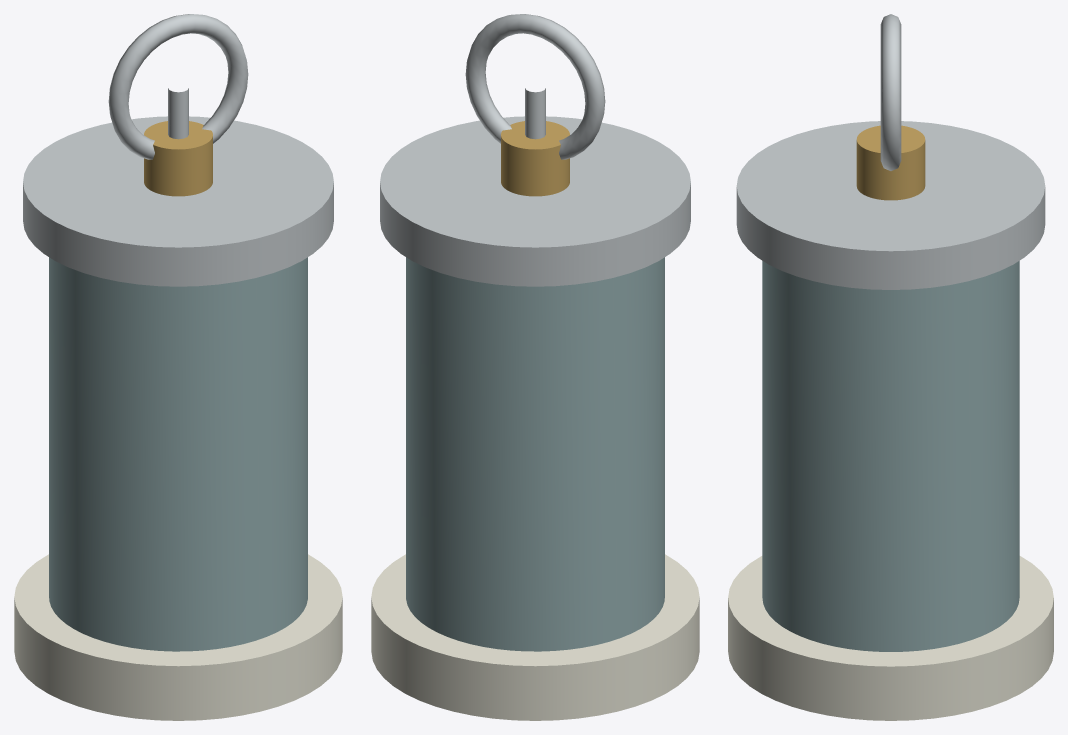
Rendered from clockmaker-and-watch-repair-pressure-test-chamber-63520c89__30618.glb.
The picture shows the model from 3 angles, left to right: view 1: azimuth 30°, elevation 25°; view 2: azimuth 150°, elevation 25°; view 3: azimuth 270°, elevation 25°; orthographic projection.
Visible parts, largest first — view 1: pressure-test-chamber; view 2: pressure-test-chamber; view 3: pressure-test-chamber.
Boxes of the visible parts, <box> form: pressure-test-chamber: <box>14,14,342,720</box>; pressure-test-chamber: <box>371,14,699,720</box>; pressure-test-chamber: <box>728,14,1053,720</box>.
Size of the model in its own units: 0.19 by 0.406 by 0.19.
